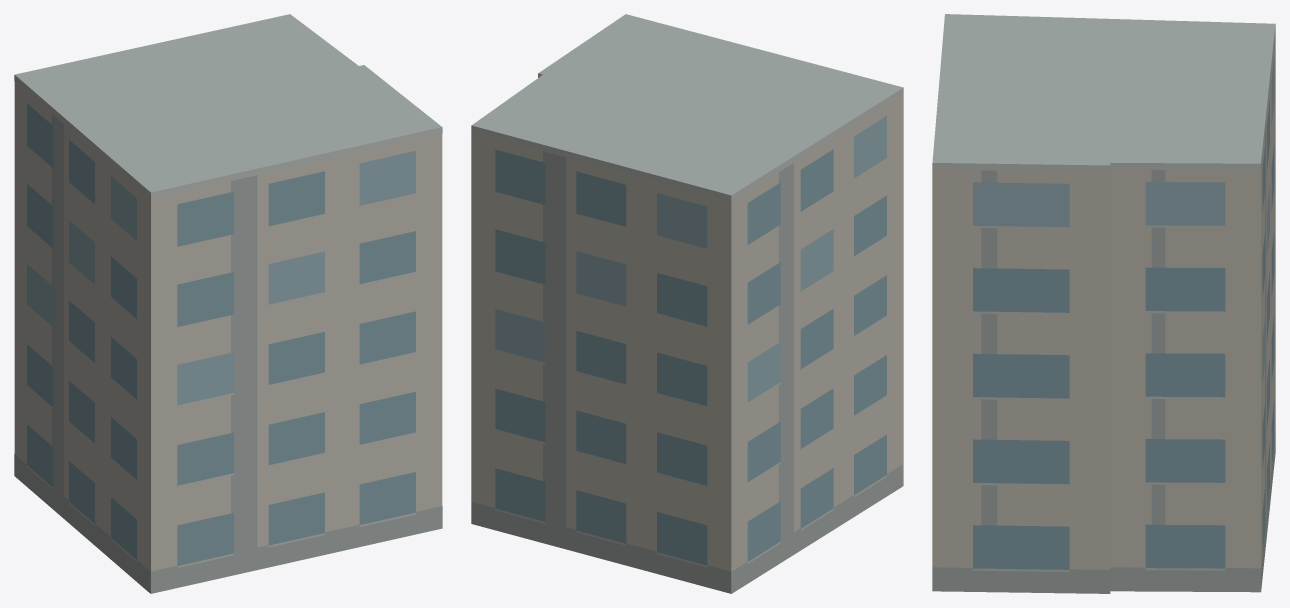
The model's file is survey-upis-32958565.glb.
3 renders of one model, left to right at view 1: azimuth 30°, elevation 25°; view 2: azimuth 150°, elevation 25°; view 3: azimuth 270°, elevation 25°, orthographic. The views are drawn at different scales.
Parts seen in each view (by area): view 1: survey-upis-32958565.tmp; view 2: survey-upis-32958565.tmp; view 3: survey-upis-32958565.tmp.
Part boxes in pixels (bbox=[...]): survey-upis-32958565.tmp: bbox=[14, 14, 442, 593]; survey-upis-32958565.tmp: bbox=[471, 14, 903, 593]; survey-upis-32958565.tmp: bbox=[932, 14, 1275, 593].
Bounding box in the file's own units: 11.34 × 14.95 × 10.86.
